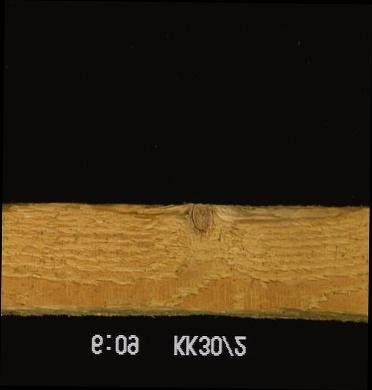sound_knot: (189, 203, 215, 234)
wave: (1, 202, 369, 212)
